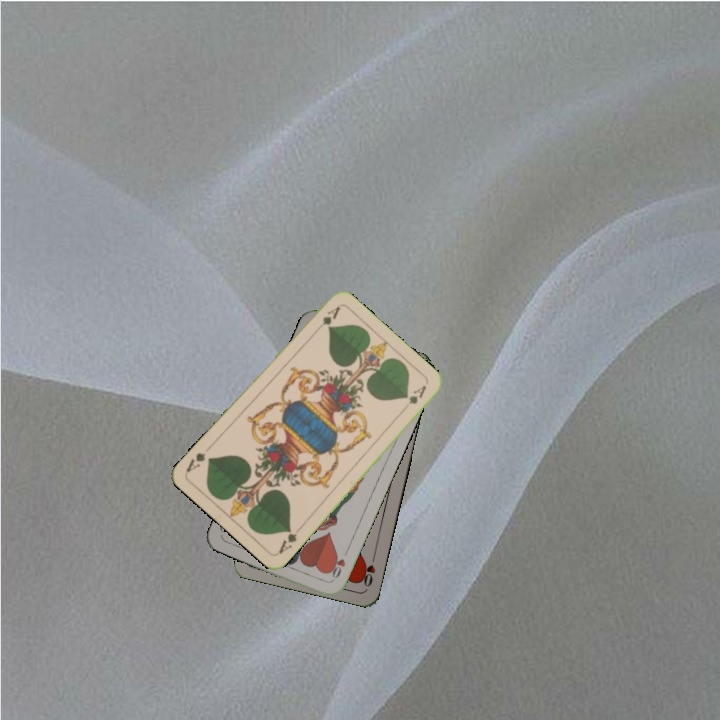GA: (310, 302, 343, 336), (274, 522, 304, 556)
HO: (325, 546, 351, 584), (357, 551, 378, 590)
